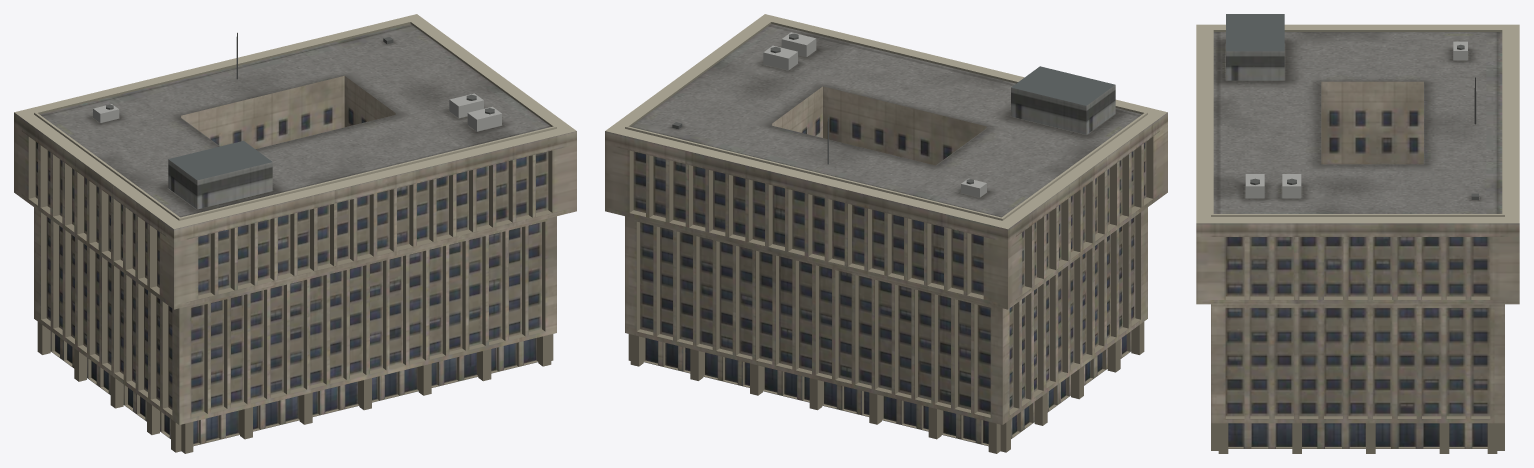
The model's file is dc_brutal_b.glb.
3 views of the same model, side by side, from view 1: azimuth 30°, elevation 25°; view 2: azimuth 150°, elevation 25°; view 3: azimuth 270°, elevation 25° (orthographic).
Parts seen in each view (by area): view 1: dc_brutal_b; view 2: dc_brutal_b; view 3: dc_brutal_b.
Part boxes in pixels (left/top/right/bottom): dc_brutal_b: left=14, top=14, right=576, bottom=453; dc_brutal_b: left=605, top=14, right=1167, bottom=453; dc_brutal_b: left=1196, top=14, right=1519, bottom=453.
Size of the model in its own units: 64 by 42.6 by 44.
Materials: 1 (1 with a texture image).
